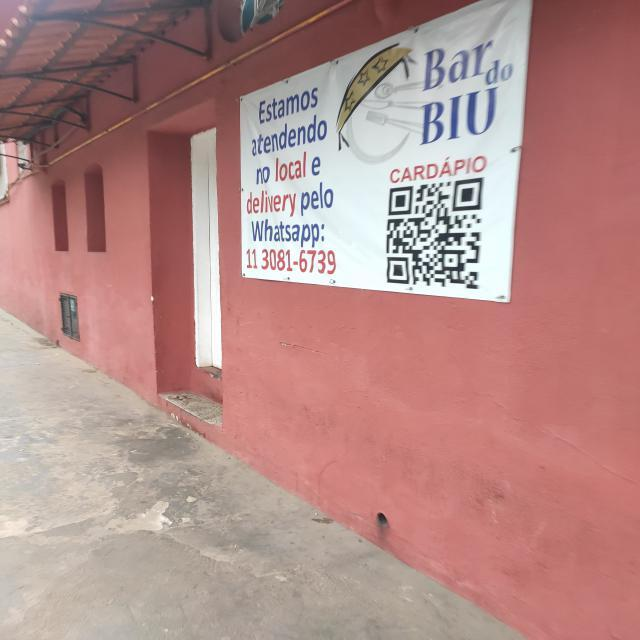qr_code: (388, 177, 483, 290)
